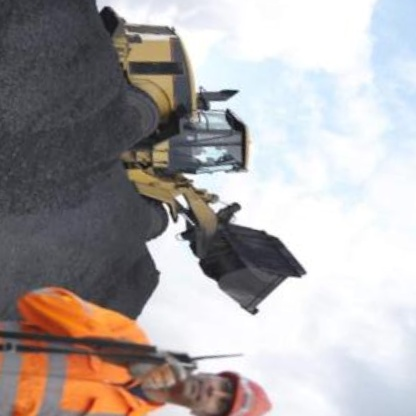red: (197, 360, 285, 416)
vest: (0, 276, 181, 416)
